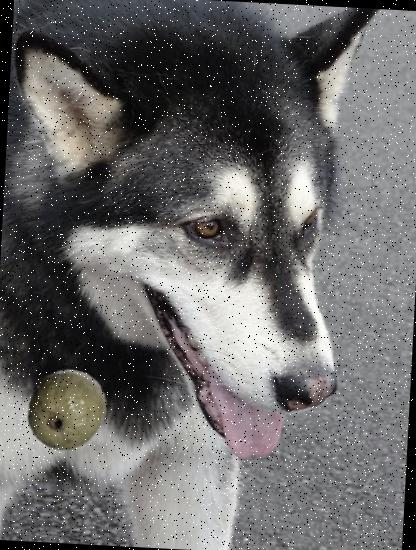Guava: (22, 365, 112, 455)
